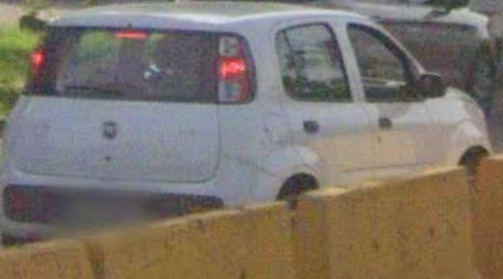car: (12, 4, 492, 263)
